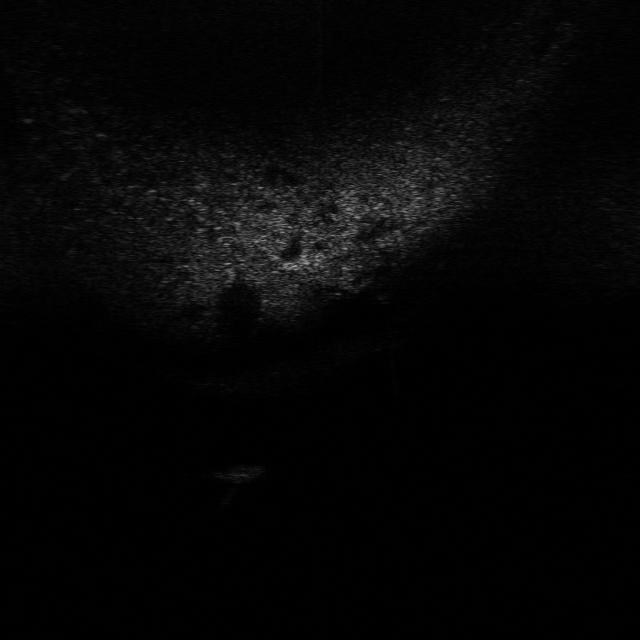ball: (362, 270, 406, 302)
cube: (204, 459, 268, 485)
